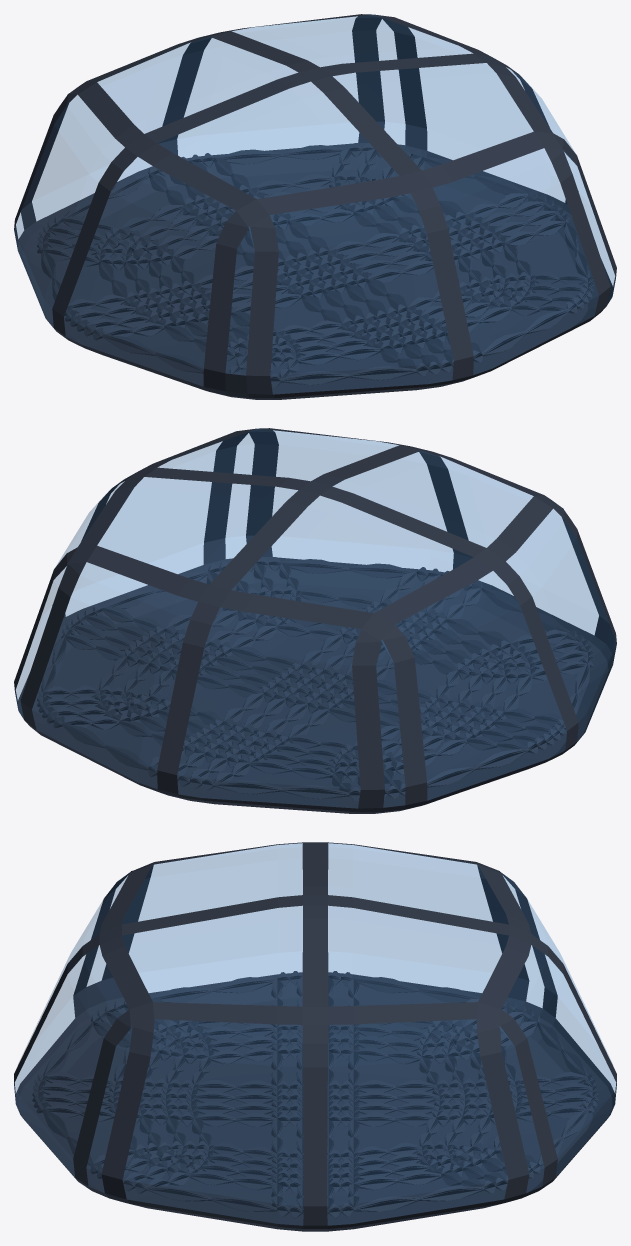
File: capsules.fbx
3 renders of one model, top to bottom at view 1: azimuth 30°, elevation 25°; view 2: azimuth 150°, elevation 25°; view 3: azimuth 270°, elevation 25°, orthographic.
Parts seen in each view (by area): view 1: Chamber, Capsules; view 2: Chamber, Capsules; view 3: Chamber, Capsules.
Part boxes in pixels (x1,y1,x2,y2): Chamber: [14, 14, 616, 399]; Capsules: [37, 143, 593, 387]; Chamber: [14, 428, 616, 813]; Capsules: [37, 557, 593, 801]; Chamber: [14, 842, 616, 1231]; Capsules: [32, 971, 598, 1218].
Size of the model in its own units: 155 by 63.43 by 155.
